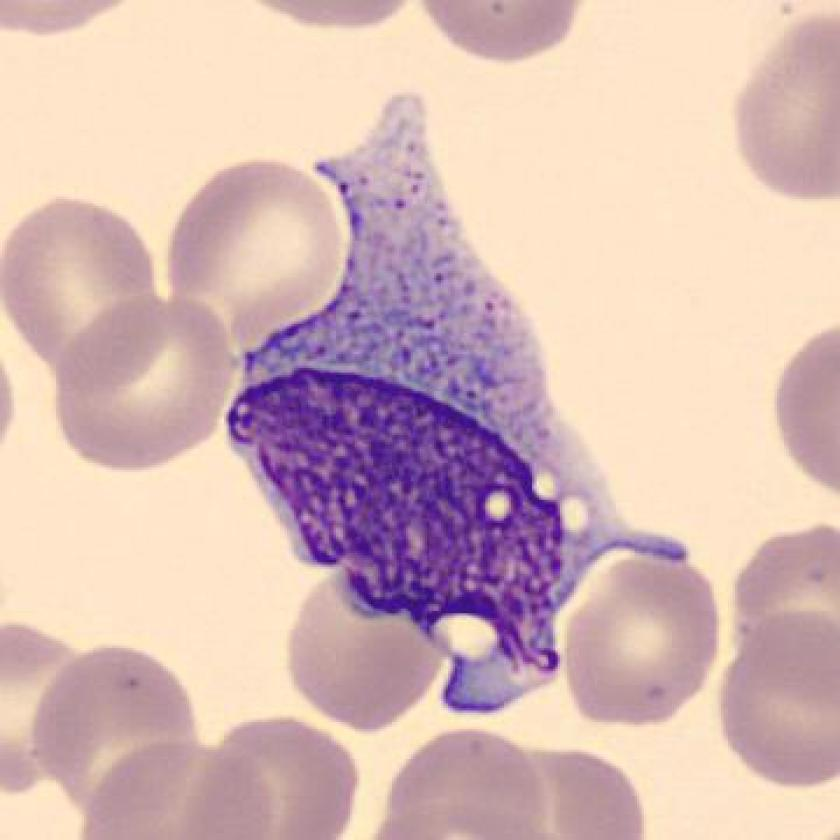monocyte: (206, 78, 701, 742)
